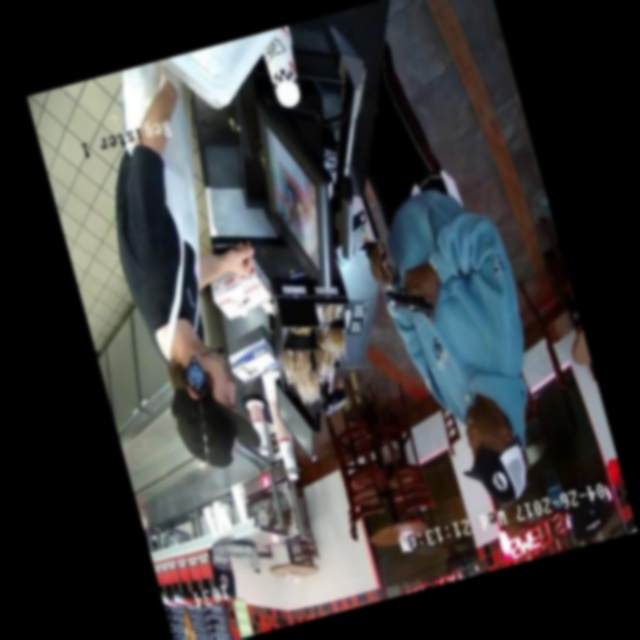gun: (372, 261, 456, 343)
